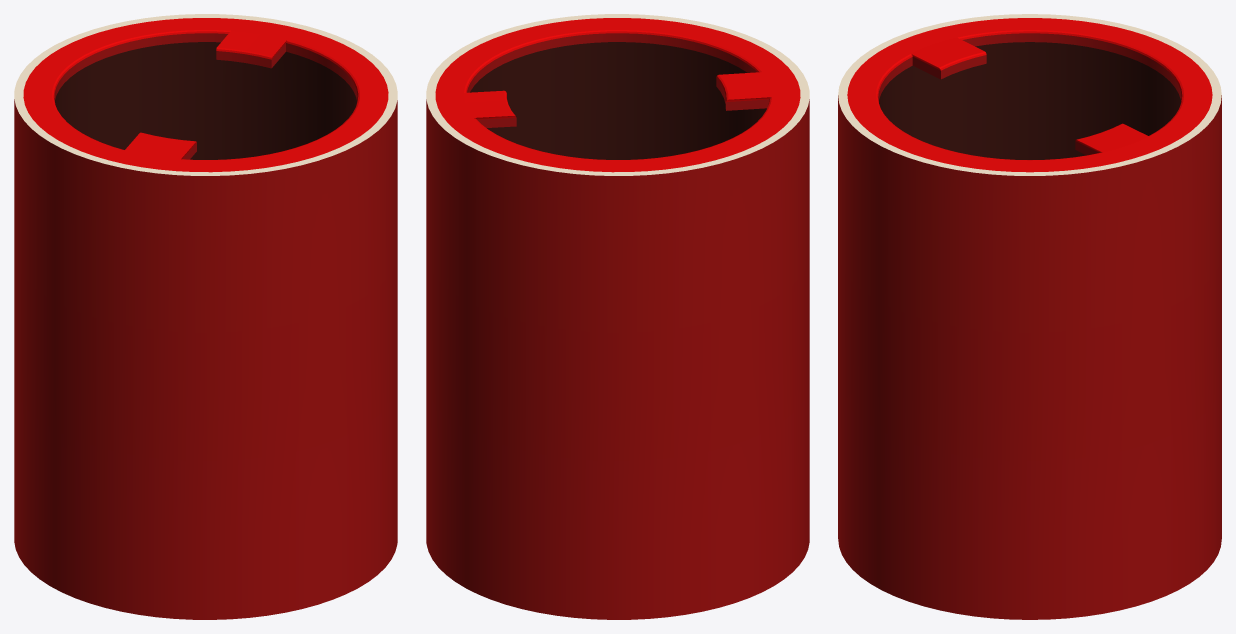
Rendered from HOLE.fbx.
3 renders of one model, left to right at view 1: azimuth 30°, elevation 25°; view 2: azimuth 150°, elevation 25°; view 3: azimuth 270°, elevation 25°, orthographic.
Parts seen in each view (by area): view 1: hole_brick_op2; view 2: hole_brick_op2; view 3: hole_brick_op2.
Part boxes in pixels (x1,y1,x2,y2): hole_brick_op2: [14, 14, 397, 619]; hole_brick_op2: [426, 14, 809, 619]; hole_brick_op2: [838, 14, 1221, 619].
Size of the model in its own units: 402 by 513 by 402.
